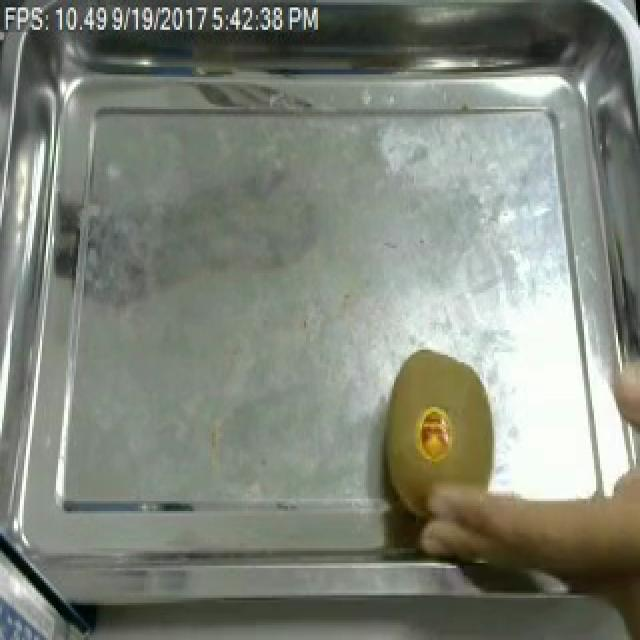Fruit: (366, 338, 514, 554)
